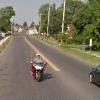Motorcycle: (24, 53, 51, 86)
